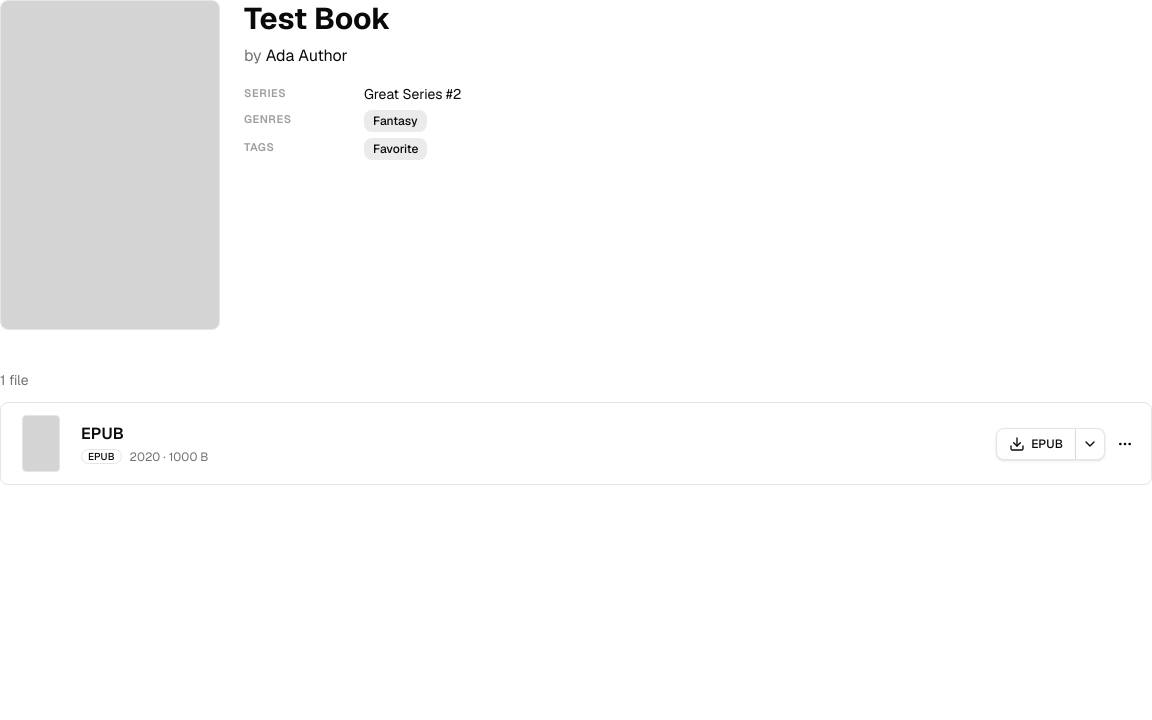
Scenario: BookDetailBody in Share Link context › reports the fallback for a proxy's error page when a download fails
Step 1. Click the button with aria-label "Download EPUB" → (1036, 444), box [996,428,1076,460]
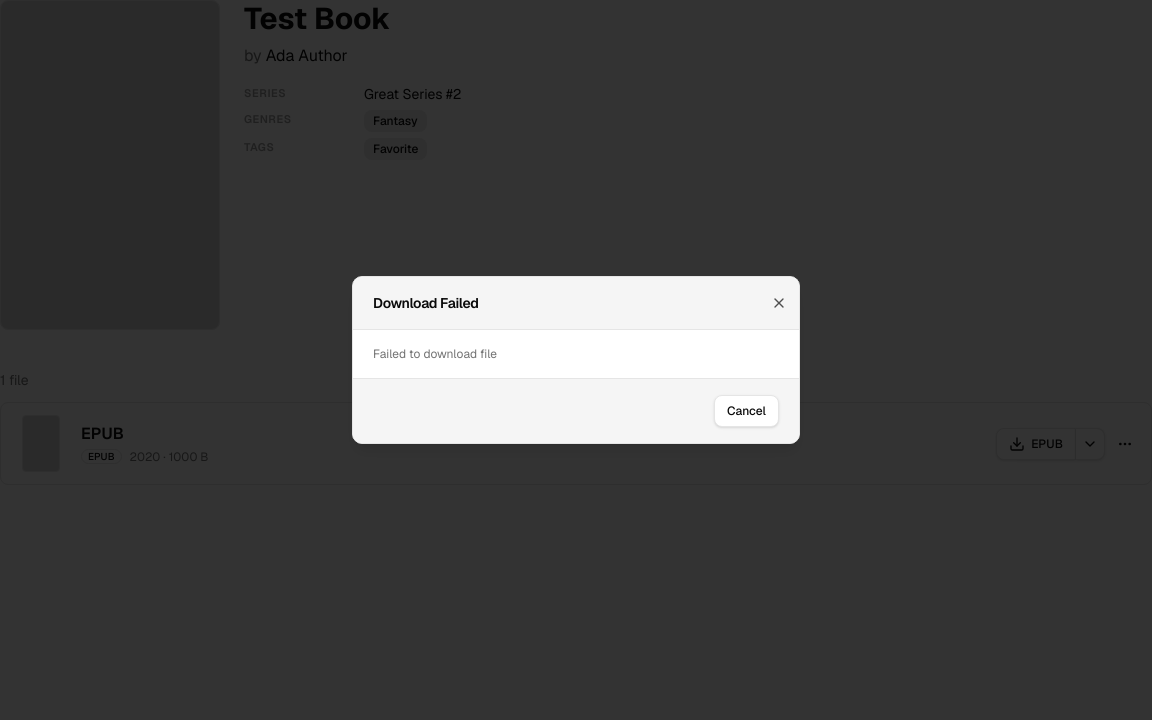
Now the text "Failed to download file" is shown, box [373,346,497,362]
